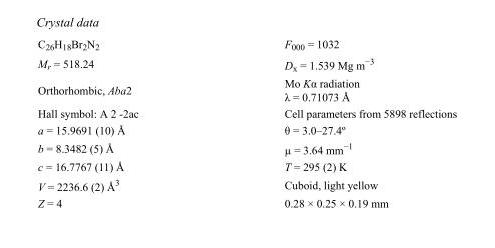table: (37, 37, 456, 208)
table column: (210, 37, 456, 208), (37, 37, 210, 208)
table row: (37, 74, 456, 104), (37, 53, 456, 74), (37, 174, 456, 194), (37, 138, 456, 157), (37, 104, 456, 121), (37, 121, 456, 138), (37, 157, 456, 174), (37, 37, 456, 53), (37, 194, 456, 208)
